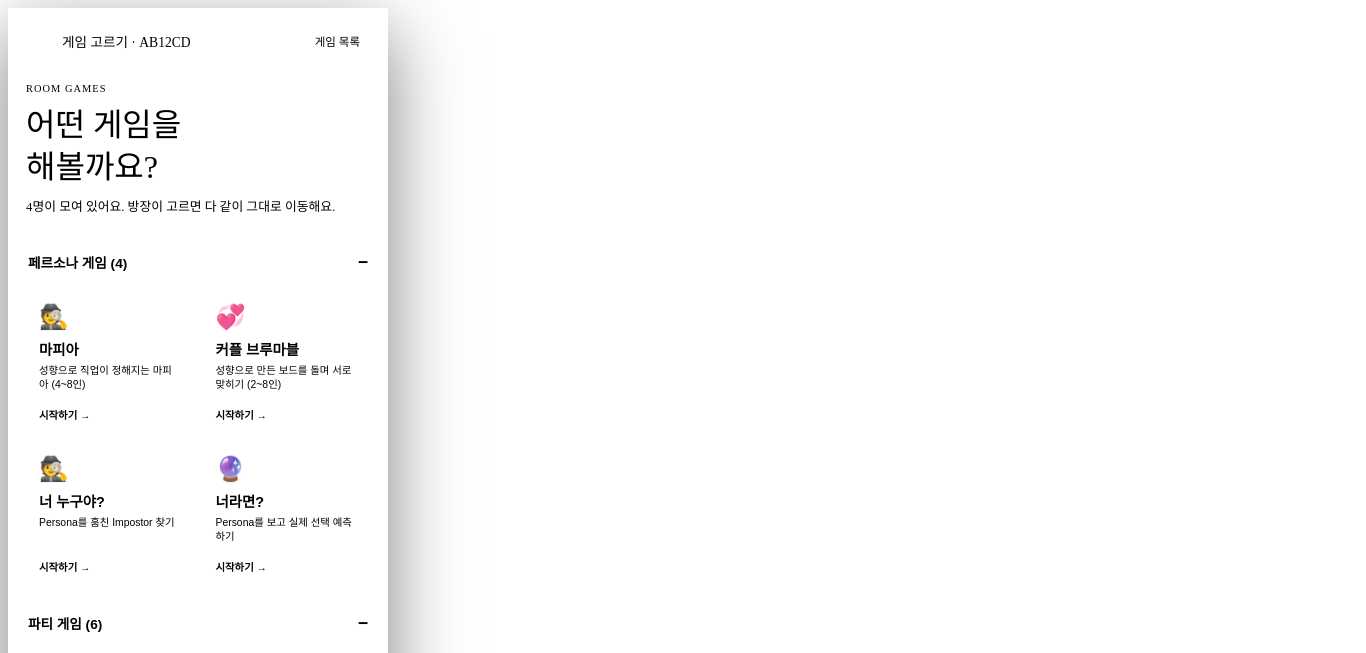
Test: the room chooses a game › shows the failure instead of pretending the game started
Click the button "🕵️ 마피아 성향으로 직업이 정해지는 마피아 (4~8인) 시작하기 →". click: (110, 363)
box: left=26, top=292, right=194, bottom=435
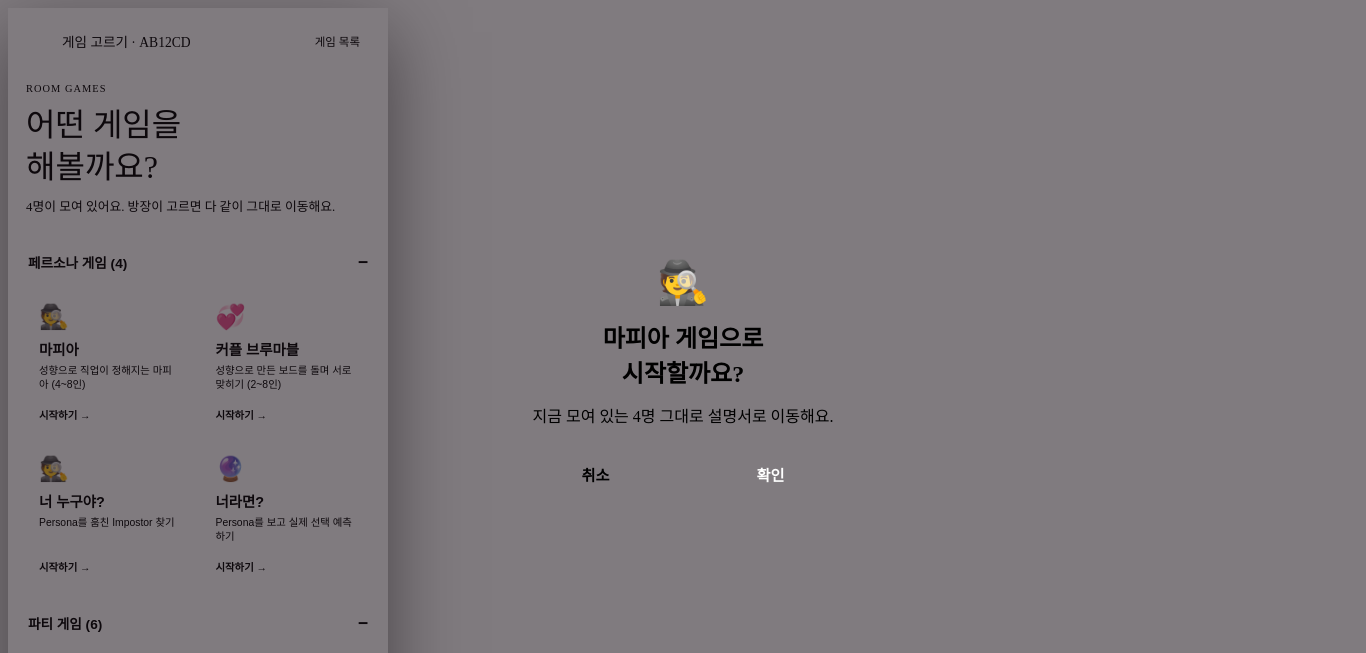
Click the button "확인". click: (770, 474)
box: left=688, top=448, right=853, bottom=498
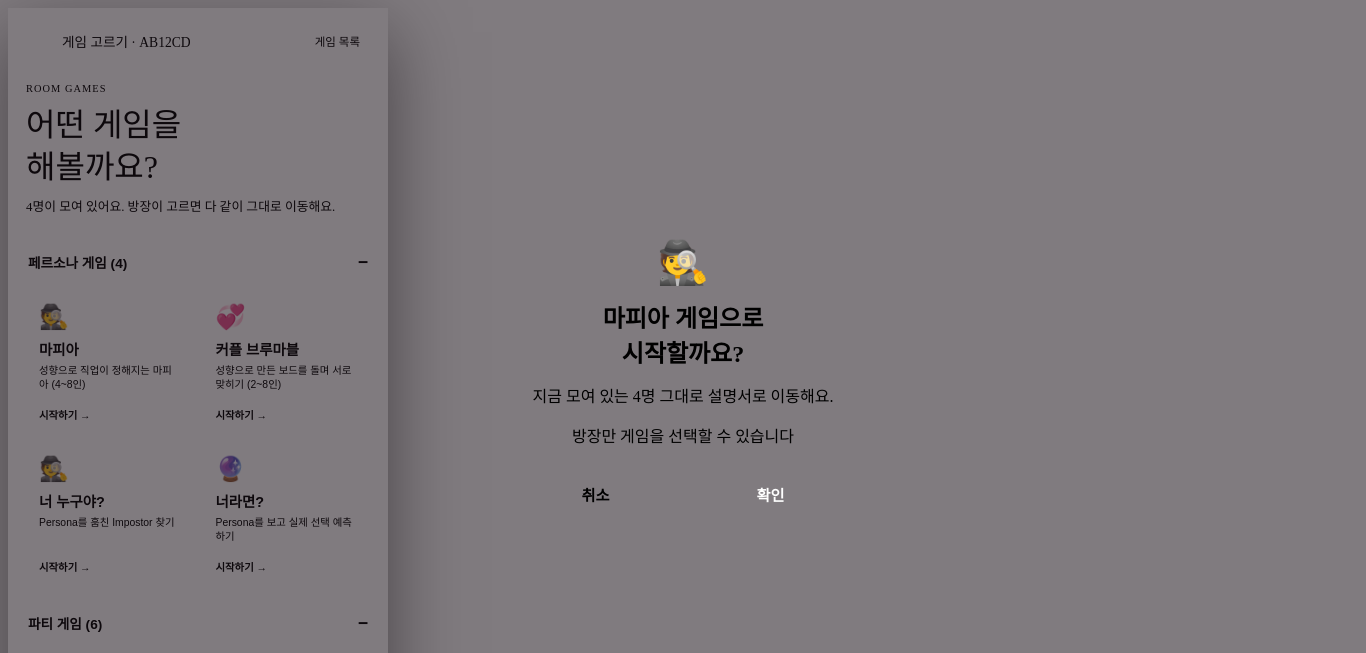
Result: the message reads "방장만 게임을 선택할 수 있습니다" at left=572, top=428, right=794, bottom=444
